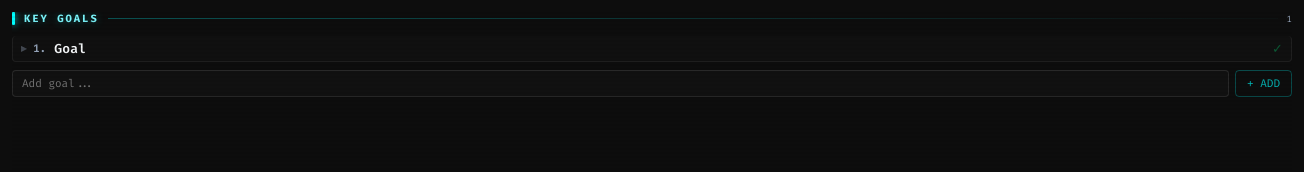
description read view is hidden until the chevron is clicked
Expected: the text "plain desc" is not shown
Click the button titled "Toggle description". click: (24, 48)
box: [21,44,27,52]
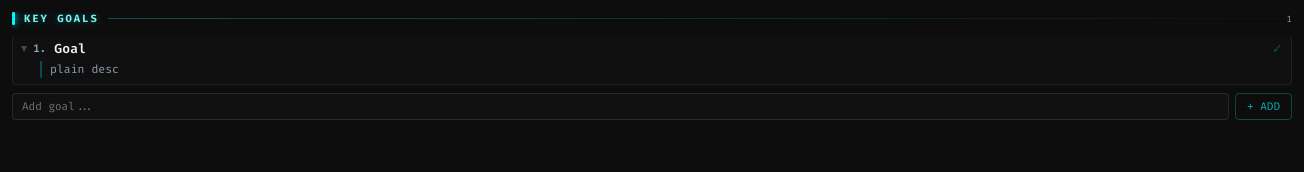
Expected: the text "plain desc" is shown, [50,62,119,77]
